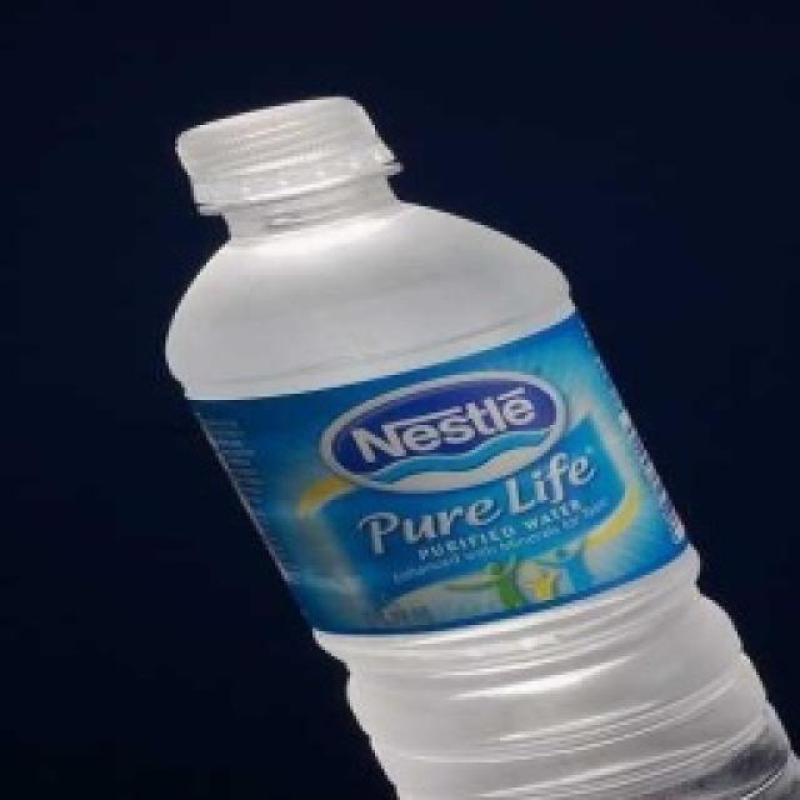botella: (165, 96, 799, 800)
